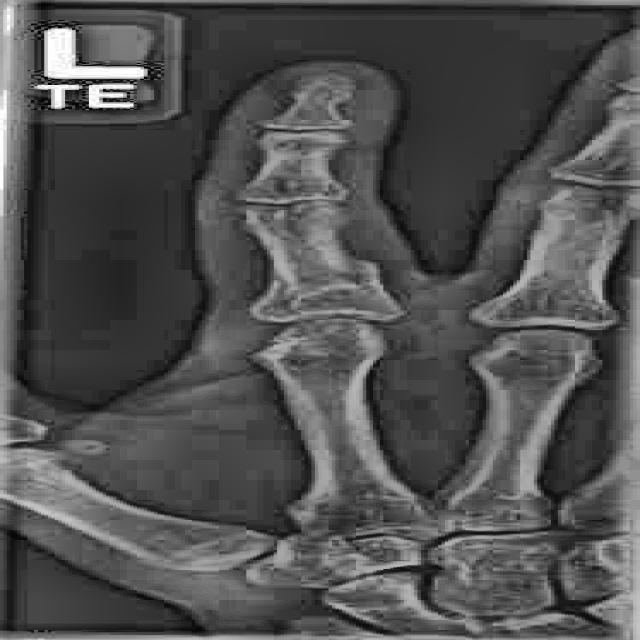fingers positive: (244, 239, 403, 305)
